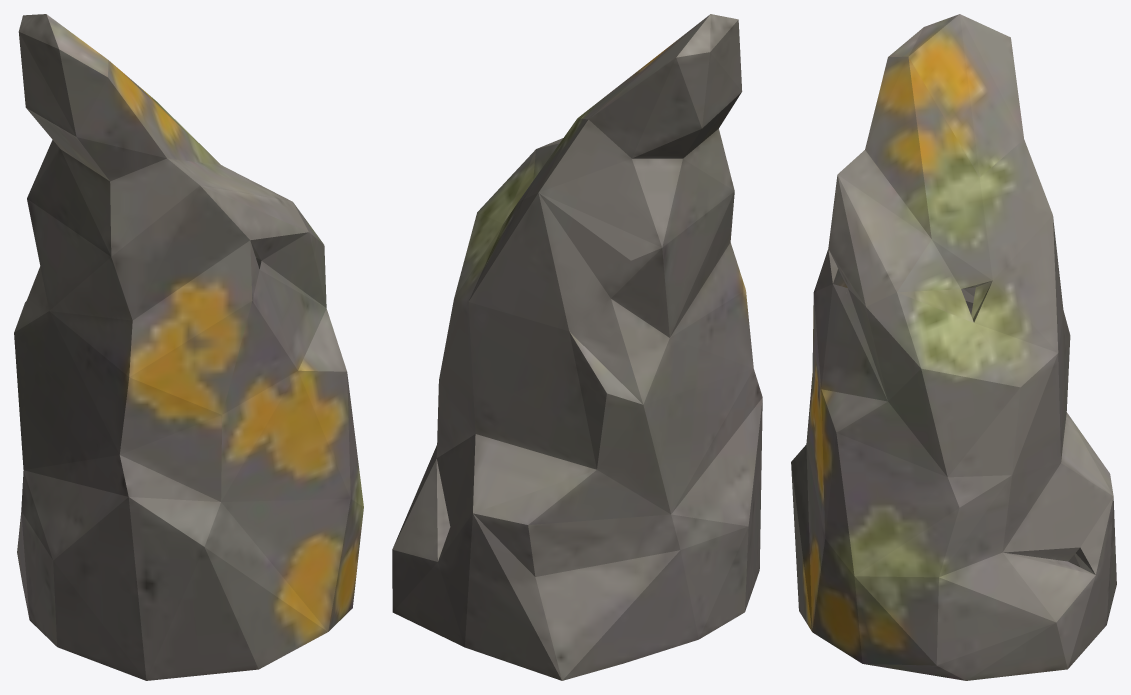
Rendered from standing-stone-a.glb.
3 views of the same model, side by side, from view 1: azimuth 30°, elevation 25°; view 2: azimuth 150°, elevation 25°; view 3: azimuth 270°, elevation 25° (orthographic). The views are drawn at different scales.
Visible parts, largest first — view 1: standing-stone-a; view 2: standing-stone-a; view 3: standing-stone-a.
Part boxes in pixels (left/top/right/bottom): standing-stone-a: left=14, top=14, right=363, bottom=680; standing-stone-a: left=392, top=14, right=762, bottom=680; standing-stone-a: left=791, top=14, right=1116, bottom=680.
Bounding box in the file's own units: 1.56 × 3.01 × 1.63.
1 material, 1 textured.
